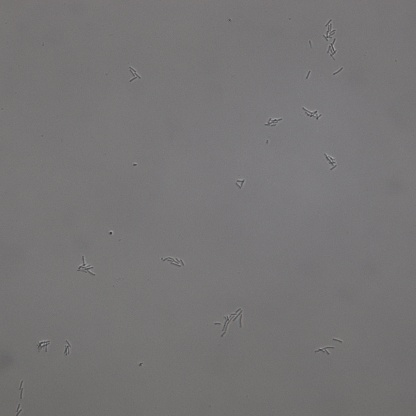R(colony): (214, 308, 244, 337), (77, 256, 96, 275), (161, 255, 184, 268), (303, 107, 322, 122), (323, 19, 336, 40), (264, 114, 283, 127), (324, 152, 337, 170), (327, 40, 337, 60), (128, 67, 141, 82), (36, 340, 51, 352), (315, 346, 333, 355), (63, 341, 71, 356), (235, 180, 245, 190)
